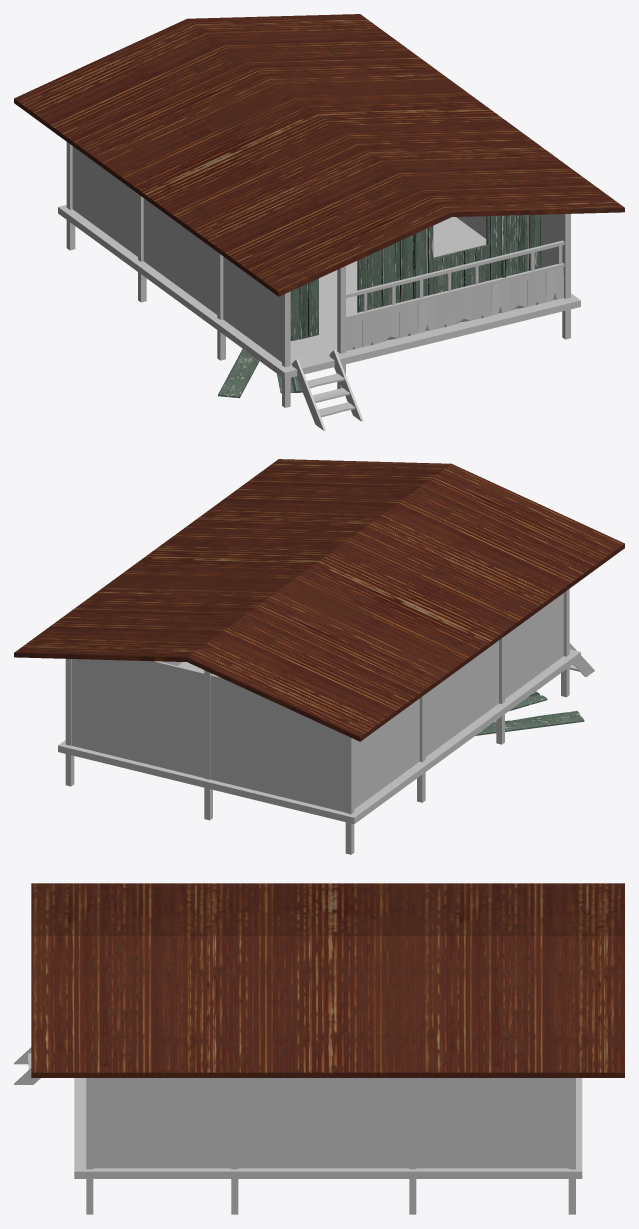
The model's file is maloca.fbx.
3 renders of one model, top to bottom at view 1: azimuth 30°, elevation 25°; view 2: azimuth 150°, elevation 25°; view 3: azimuth 270°, elevation 25°, orthographic. The views are drawn at different scales.
Visible parts, largest first — view 1: Cube.029; view 2: Cube.029; view 3: Cube.029.
Part boxes in pixels (left/top/right/bottom): Cube.029: left=14, top=14, right=624, bottom=430; Cube.029: left=14, top=459, right=624, bottom=854; Cube.029: left=14, top=883, right=624, bottom=1214.
Bounding box in the file's own units: 580 × 279 × 768.
